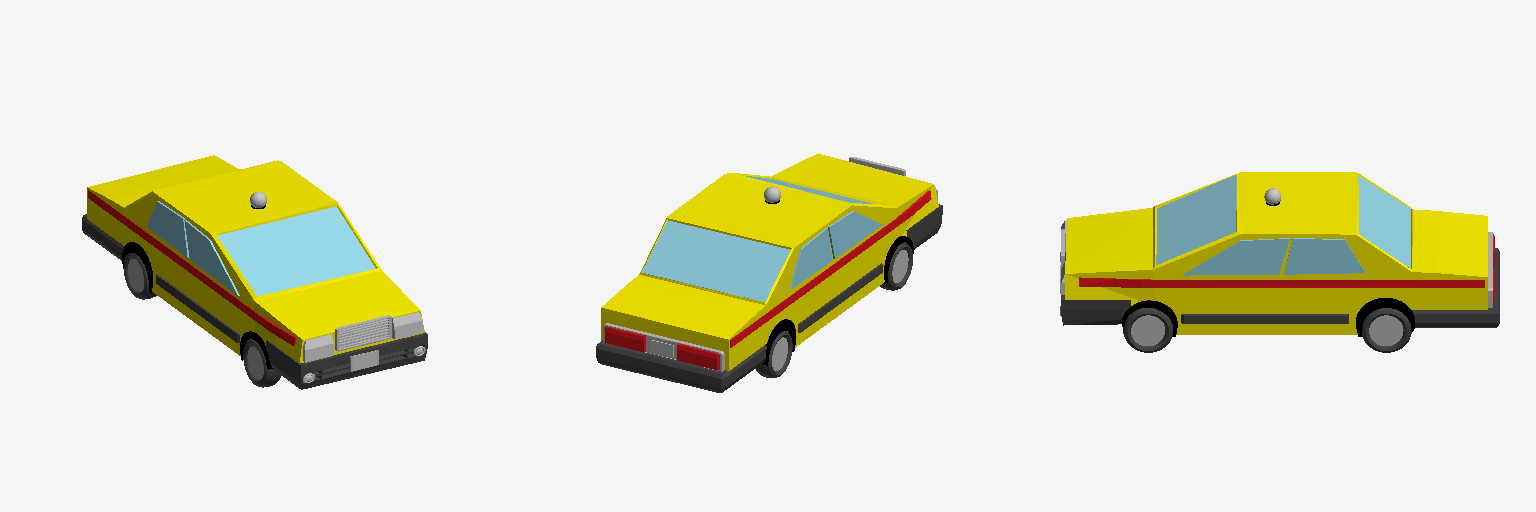
The picture shows the model from 3 angles: view 1: azimuth 30°, elevation 25°; view 2: azimuth 150°, elevation 25°; view 3: azimuth 270°, elevation 25°; orthographic projection.
Parts seen in each view (by area): view 1: Cube, 立方体.012_立方体.015, 立方体_立方体.001, 立方体.010_立方体.011, 立方体.015_立方体.018, 立方体.005_立方体.006, 立方体.014_立方体.017, 立方体.006_立方体.007, 立方体.003_立方体.004, 立方体.004_立方体.005, Torus.005_Torus.008; view 2: Cube, 立方体.013_立方体.016, 立方体.006_立方体.007, 立方体.010_立方体.011, 立方体.015_立方体.018, 立方体.007_立方体.008, 立方体.014_立方体.017, 立方体_立方体.001, 立方体.008_立方体.009, Torus.006_Torus.009, Torus.005_Torus.008; view 3: Cube, 立方体.011_立方体.014, 立方体.012_立方体.015, 立方体.015_立方体.018, 立方体.013_立方体.016, 立方体.006_立方体.007, 立方体.014_立方体.017, 立方体_立方体.001, Torus.003, Torus.004_Torus.007, 円柱.003_円柱.006, 円柱.002 (+1 smaller).
Boxes of the visible parts, <box> form: Cube: <box>87,155,424,363</box>; 立方体.012_立方体.015: <box>217,206,375,296</box>; 立方体_立方体.001: <box>266,332,427,389</box>; 立方体.010_立方体.011: <box>147,201,239,295</box>; 立方体.015_立方体.018: <box>88,190,295,345</box>; 立方体.005_立方体.006: <box>335,315,391,351</box>; 立方体.014_立方体.017: <box>156,274,239,342</box>; 立方体.006_立方体.007: <box>82,214,124,260</box>; 立方体.003_立方体.004: <box>303,334,333,362</box>; 立方体.004_立方体.005: <box>392,312,423,338</box>; Torus.005_Torus.008: <box>243,339,281,387</box>; Cube: <box>601,153,938,371</box>; 立方体.013_立方体.016: <box>642,221,790,301</box>; 立方体.006_立方体.007: <box>596,340,766,392</box>; 立方体.010_立方体.011: <box>790,211,882,288</box>; 立方体.015_立方体.018: <box>730,190,931,347</box>; 立方体.007_立方体.008: <box>605,326,719,369</box>; 立方体.014_立方体.017: <box>798,263,882,332</box>; 立方体_立方体.001: <box>906,204,942,249</box>; 立方体.008_立方体.009: <box>603,323,724,371</box>; Torus.006_Torus.009: <box>755,331,792,377</box>; Torus.005_Torus.008: <box>880,242,912,290</box>; Cube: <box>1065,172,1487,334</box>; 立方体.011_立方体.014: <box>1183,238,1365,275</box>; 立方体.012_立方体.015: <box>1156,175,1236,264</box>; 立方体.015_立方体.018: <box>1079,277,1484,287</box>; 立方体.013_立方体.016: <box>1358,175,1410,268</box>; 立方体.006_立方体.007: <box>1412,248,1499,327</box>; 立方体.014_立方体.017: <box>1181,314,1348,323</box>; 立方体_立方体.001: <box>1061,252,1130,325</box>; Torus.003: <box>1123,308,1172,352</box>; Torus.004_Torus.007: <box>1362,308,1411,352</box>; 円柱.003_円柱.006: <box>1369,315,1403,345</box>; 円柱.002: <box>1131,315,1164,345</box>.
Bounding box in the file's own units: 2.93 × 2.72 × 8.17.
Materials: 33 (6 with a texture image).